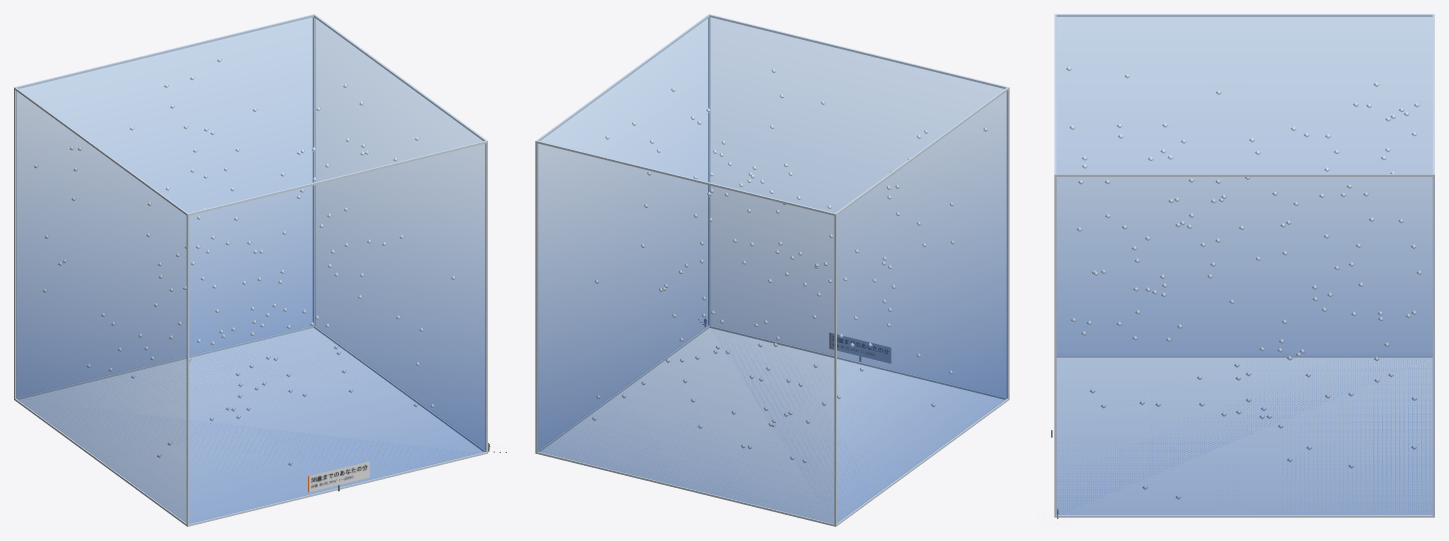
File: cube_life_38.glb
The picture shows the model from 3 angles, left to right: view 1: azimuth 30°, elevation 25°; view 2: azimuth 150°, elevation 25°; view 3: azimuth 270°, elevation 25°; orthographic projection. The views are drawn at different scales.
Parts seen in each view (by area): view 1: co2, edge, dots, label; view 2: co2, edge, dots, label; view 3: co2, edge, dots.
Boxes of the visible parts, x1,y1,x2,y2 form: co2: (16, 15, 485, 523); edge: (14, 14, 487, 526); dots: (34, 58, 455, 465); label: (308, 461, 369, 492); co2: (537, 15, 1007, 523); edge: (535, 14, 1009, 526); dots: (592, 68, 987, 463); label: (829, 333, 890, 363); co2: (1056, 14, 1433, 514); edge: (1054, 14, 1434, 517); dots: (1066, 66, 1421, 499).
Bounding box in the file's own units: 61.52 × 57.78 × 60.62.
Materials: 8 (3 with a texture image).
